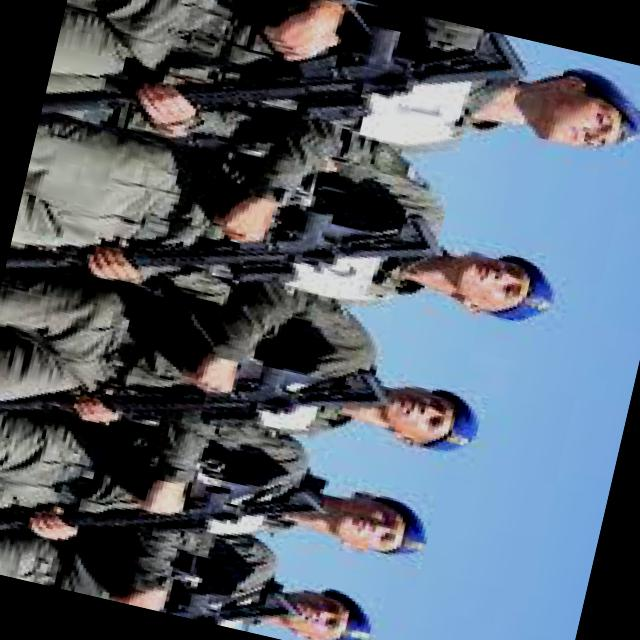long weapon: (3, 130, 444, 388), (42, 0, 537, 224), (95, 306, 386, 476), (46, 427, 331, 587)
